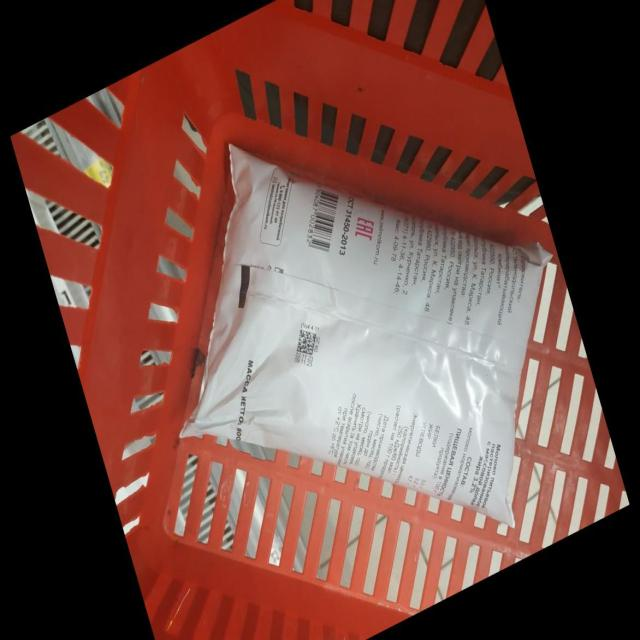Milk: (182, 145, 549, 523)
